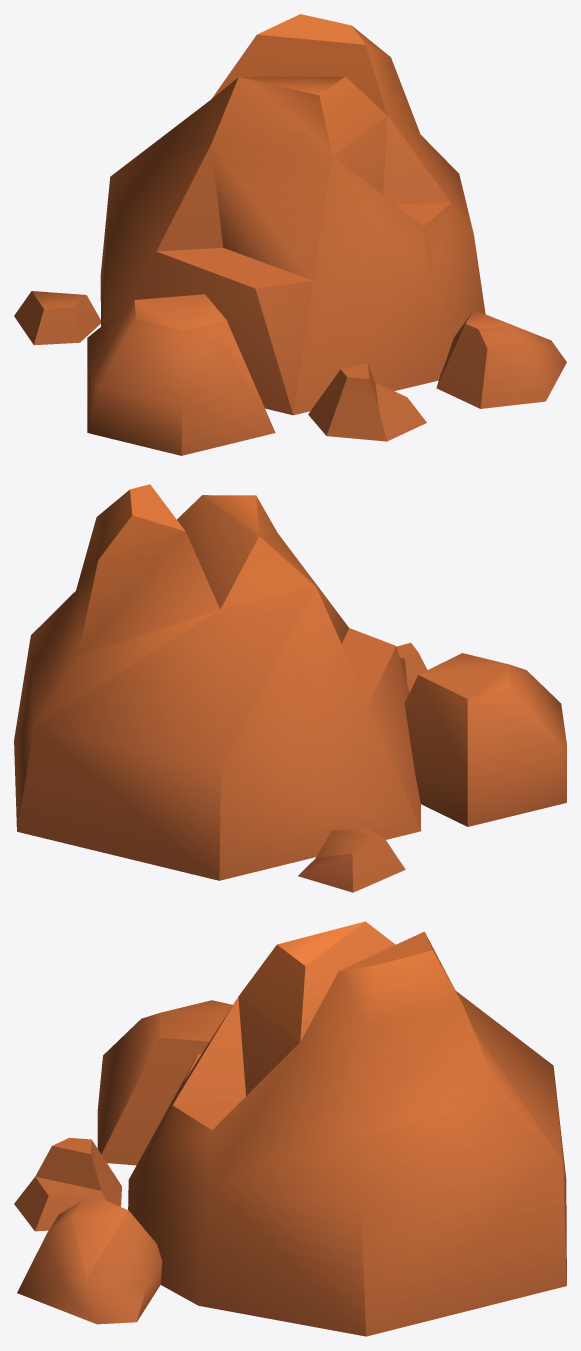
Rendered from kk_rocks_b.glb.
The picture shows the model from 3 angles, top to bottom: view 1: azimuth 30°, elevation 25°; view 2: azimuth 150°, elevation 25°; view 3: azimuth 270°, elevation 25°; orthographic projection. The views are drawn at different scales.
Visible parts, largest first — view 1: rocks_B; view 2: rocks_B; view 3: rocks_B.
Boxes of the visible parts, x1=… form: rocks_B: x1=14, y1=14, x2=566, y2=455; rocks_B: x1=14, y1=484, x2=566, y2=892; rocks_B: x1=14, y1=921, x2=566, y2=1336.
Size of the model in its own units: 3 by 1.7 by 2.77.
1 material, 1 textured.
